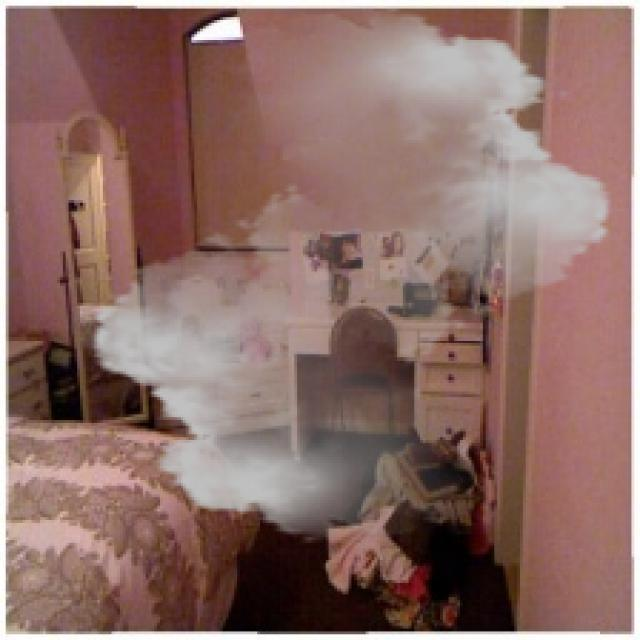Smoke: (74, 6, 629, 543)
